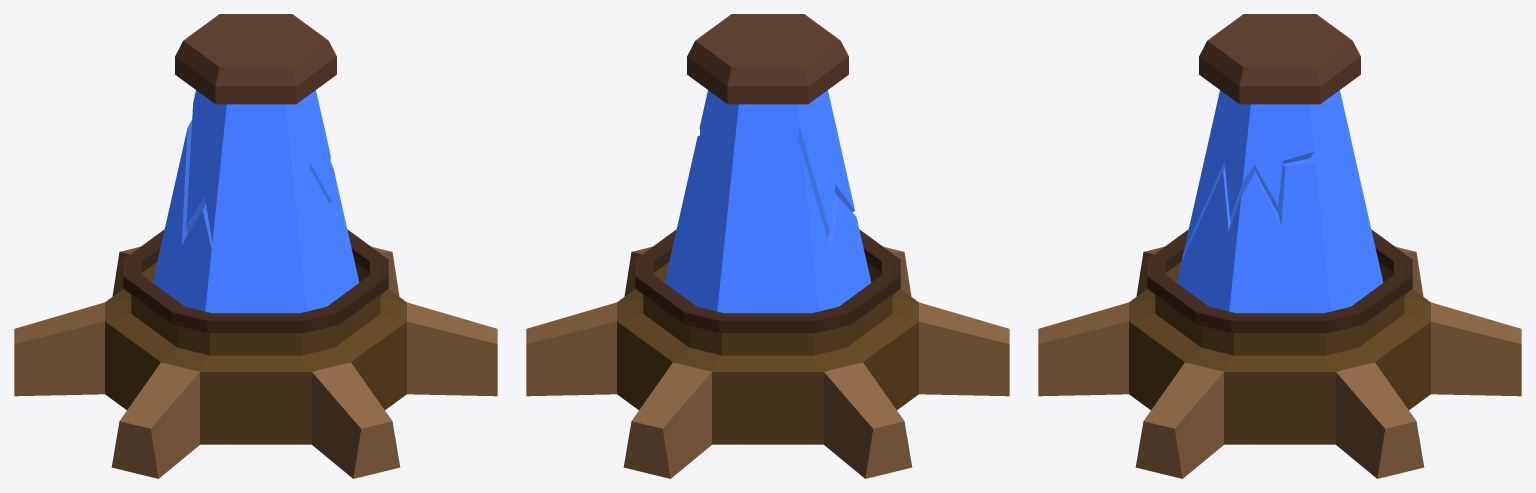
The model's file is magarajam_tower5.fbx.
The picture shows the model from 3 angles, left to right: view 1: azimuth 30°, elevation 25°; view 2: azimuth 150°, elevation 25°; view 3: azimuth 270°, elevation 25°; orthographic projection.
Parts seen in each view (by area): view 1: Circle.001, Cone.003, Cone.002; view 2: Circle.001, Cone.003, Cone.002; view 3: Circle.001, Cone.003, Cone.002.
Part boxes in pixels (bbox=[...]): Circle.001: bbox=[14, 229, 497, 478]; Cone.003: bbox=[152, 90, 359, 313]; Cone.002: bbox=[175, 14, 336, 104]; Circle.001: bbox=[526, 229, 1009, 478]; Cone.003: bbox=[664, 90, 871, 313]; Cone.002: bbox=[687, 14, 848, 104]; Circle.001: bbox=[1038, 229, 1521, 478]; Cone.003: bbox=[1176, 90, 1383, 313]; Cone.002: bbox=[1199, 14, 1360, 104].
Size of the model in its own units: 674 by 574 by 731.
